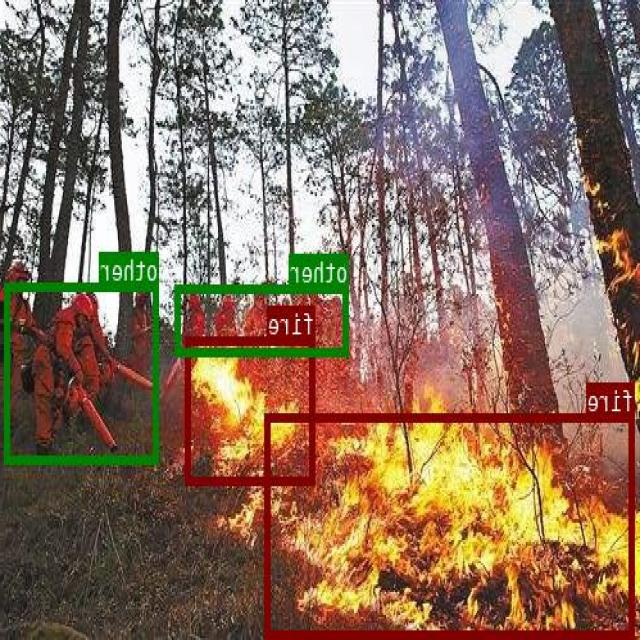fire: (266, 413, 636, 636), (187, 336, 316, 483)
other: (6, 281, 160, 462), (176, 283, 349, 354)
